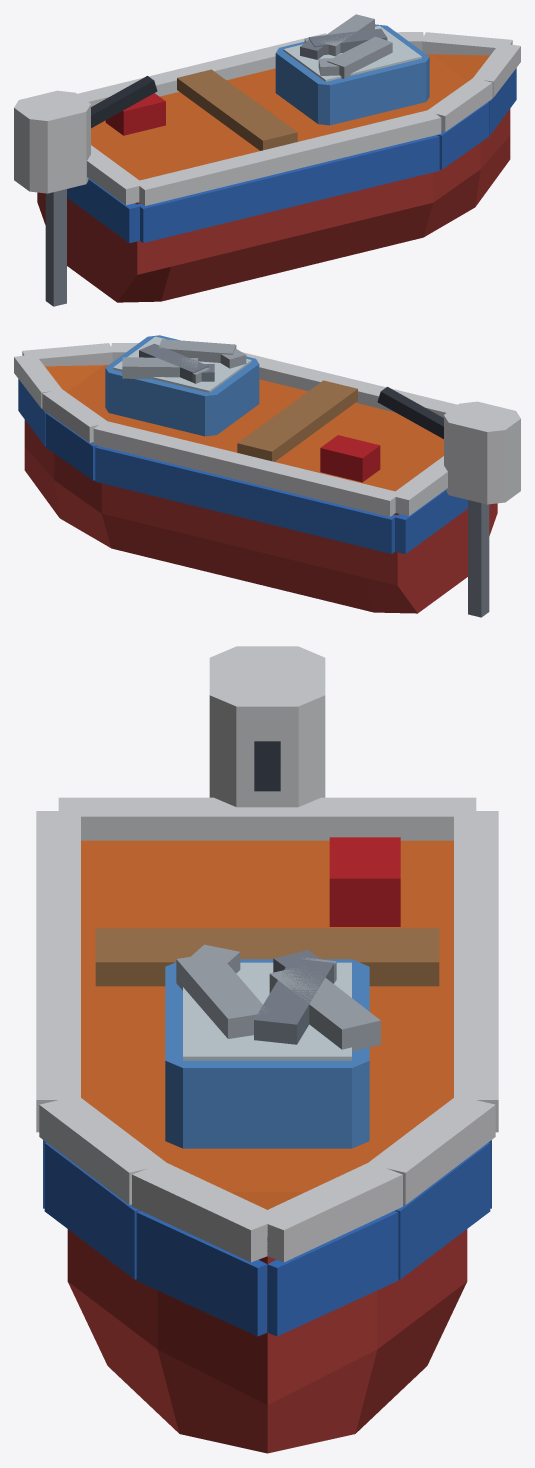
The model's file is boat_dinghy.glb.
3 renders of one model, top to bottom at view 1: azimuth 30°, elevation 25°; view 2: azimuth 150°, elevation 25°; view 3: azimuth 270°, elevation 25°, orthographic. The views are drawn at different scales.
Parts seen in each view (by area): view 1: boat_dinghy; view 2: boat_dinghy; view 3: boat_dinghy.
Boxes of the visible parts, left/top/right/bottom form: boat_dinghy: left=14, top=14, right=520, bottom=306; boat_dinghy: left=14, top=335, right=520, bottom=617; boat_dinghy: left=36, top=646, right=498, bottom=1453.
Bounding box in the file's own units: 2.57 × 0.9987 × 1.04.
